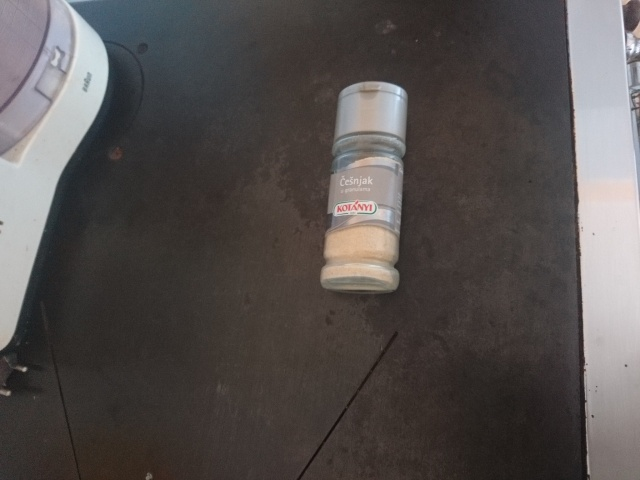Kotanyi Garlic Granules 70g: (316, 79, 411, 297)
